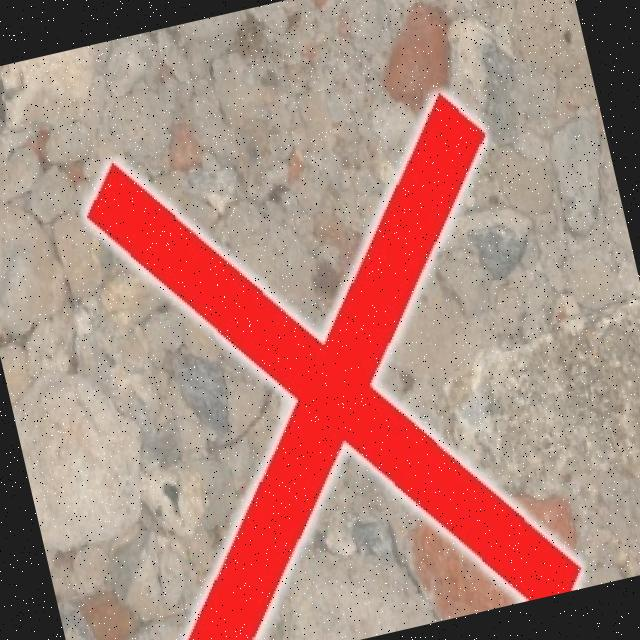x_marker: (71, 78, 587, 640)
